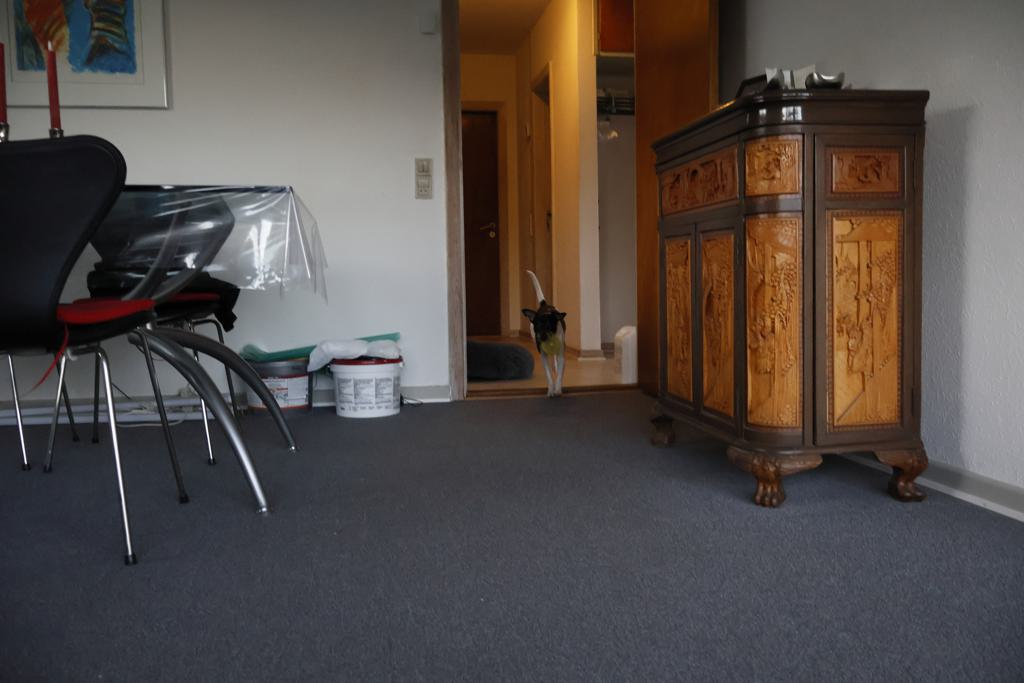Dog: (517, 263, 572, 402)
